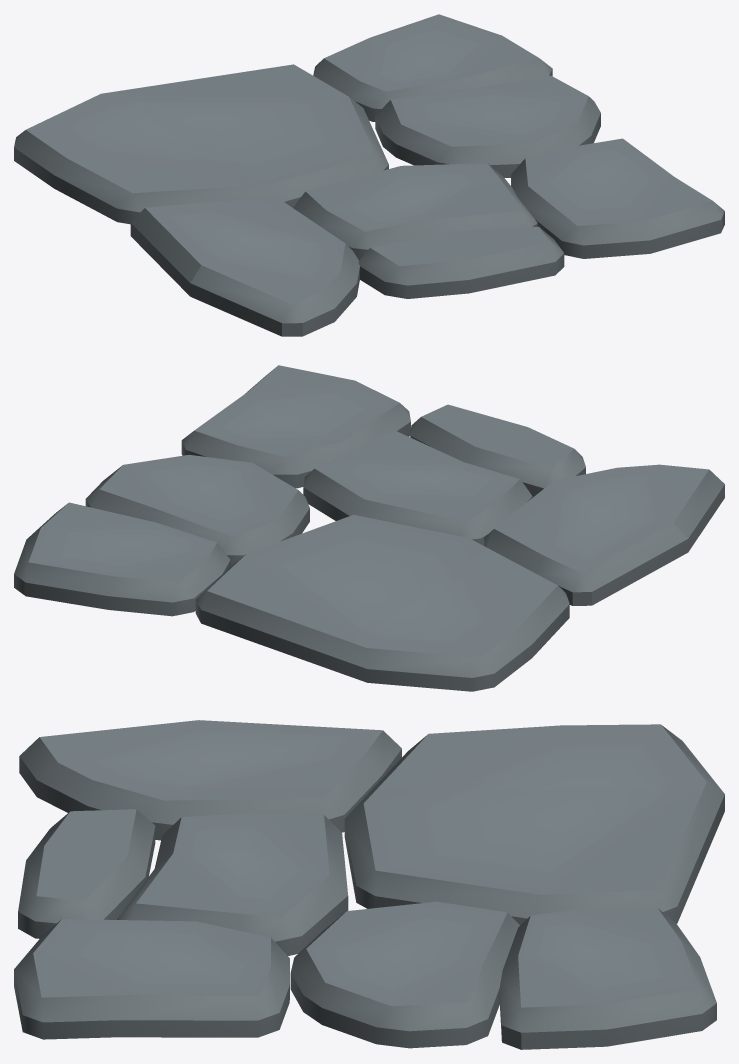
File: kaykit-halloween-bits-path-a.glb
3 renders of one model, top to bottom at view 1: azimuth 30°, elevation 25°; view 2: azimuth 150°, elevation 25°; view 3: azimuth 270°, elevation 25°, orthographic. The views are drawn at different scales.
Visible parts, largest first — view 1: path_A; view 2: path_A; view 3: path_A.
Part boxes in pixels (left/top/right/bottom): path_A: left=14, top=14, right=724, bottom=336; path_A: left=14, top=365, right=724, bottom=691; path_A: left=14, top=720, right=724, bottom=1049.
Size of the model in its own units: 1.9 by 0.0999 by 1.88.
Materials: 1 (1 with a texture image).
